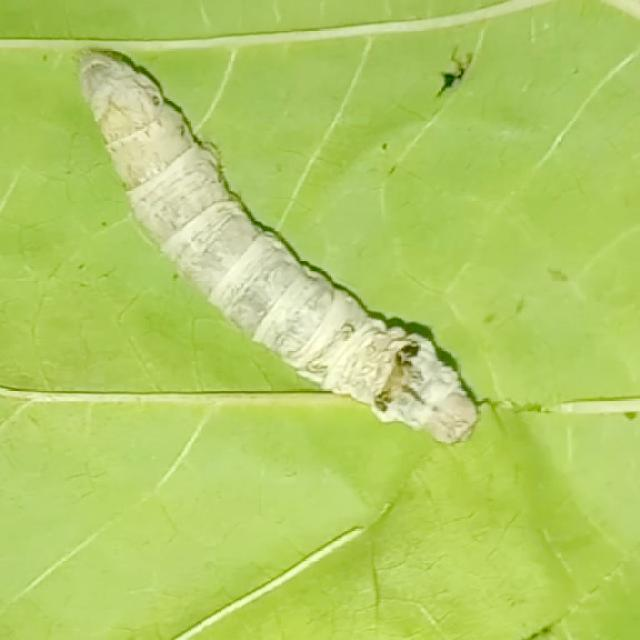Grasserie: (67, 34, 489, 472)
